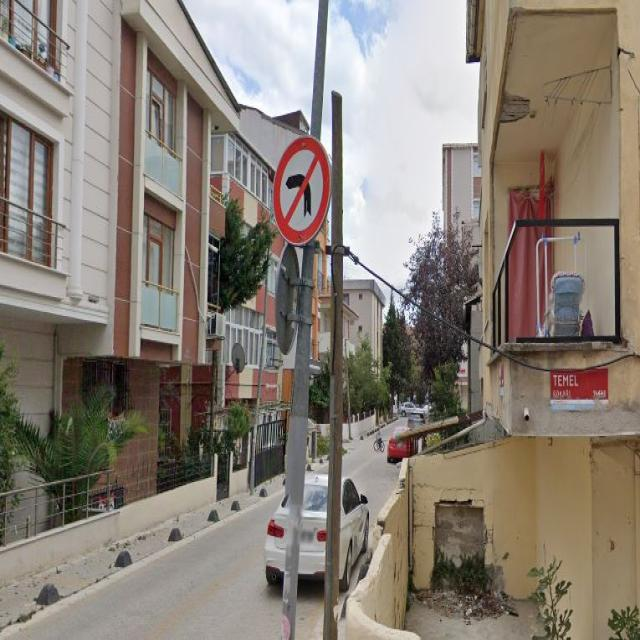soladonulmez: (273, 135, 330, 246)
